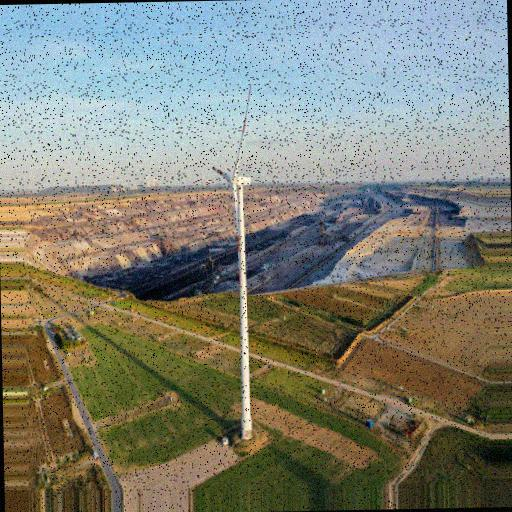wind turbine: (211, 85, 255, 436)
